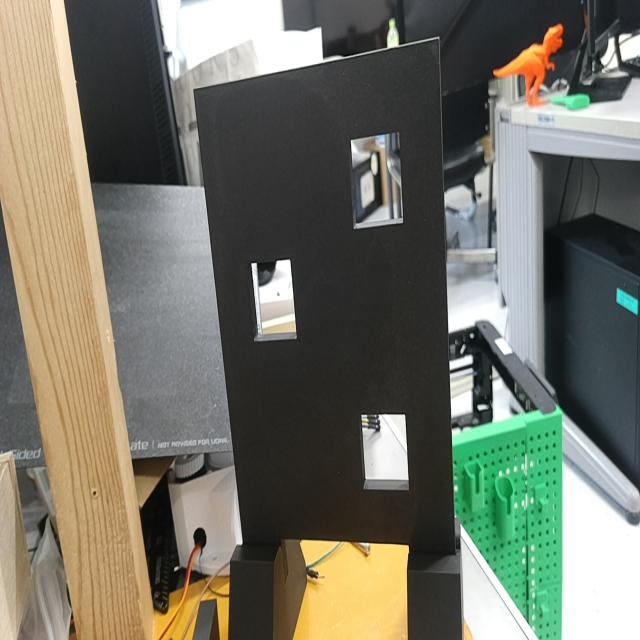Obstacle: (348, 133, 403, 229), (248, 261, 297, 344), (359, 413, 409, 490)
Wall: (194, 39, 454, 554)
